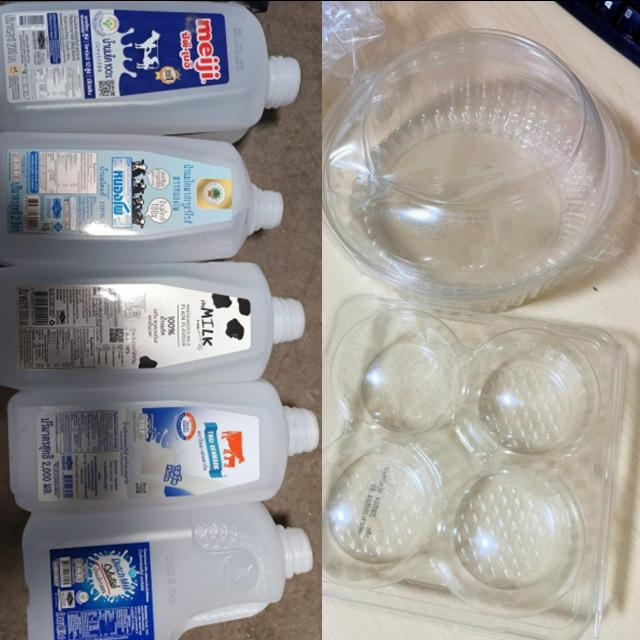plastik: (323, 294, 625, 640), (324, 28, 632, 306), (0, 0, 301, 142), (9, 378, 318, 511), (22, 502, 312, 640), (0, 262, 304, 387), (0, 132, 283, 263)
